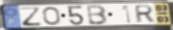1: (122, 5, 132, 24)
5: (66, 5, 85, 26)
B: (87, 4, 110, 26)
O: (42, 7, 63, 26)
R: (135, 4, 155, 24)
Z: (18, 6, 43, 27)
